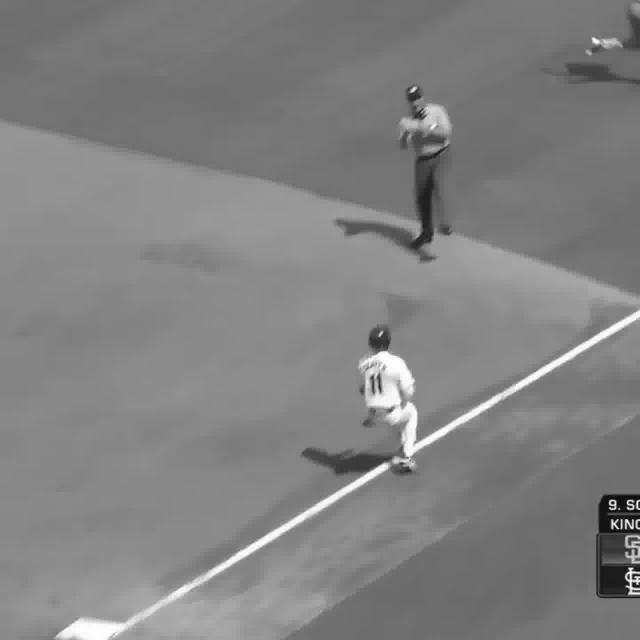base: (54, 616, 130, 640)
shoe: (392, 455, 417, 473)
